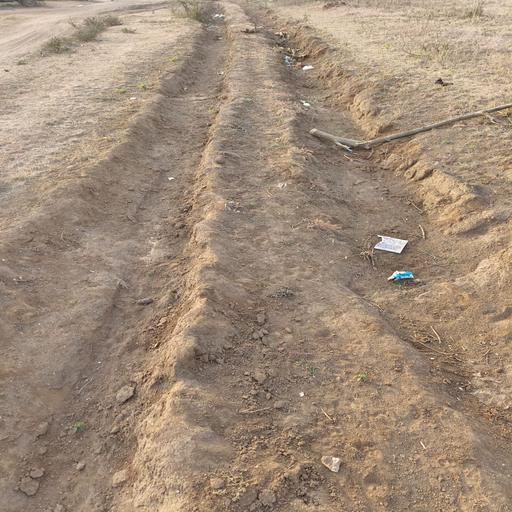vehicle_track: (0, 22, 228, 512), (276, 41, 512, 505)
